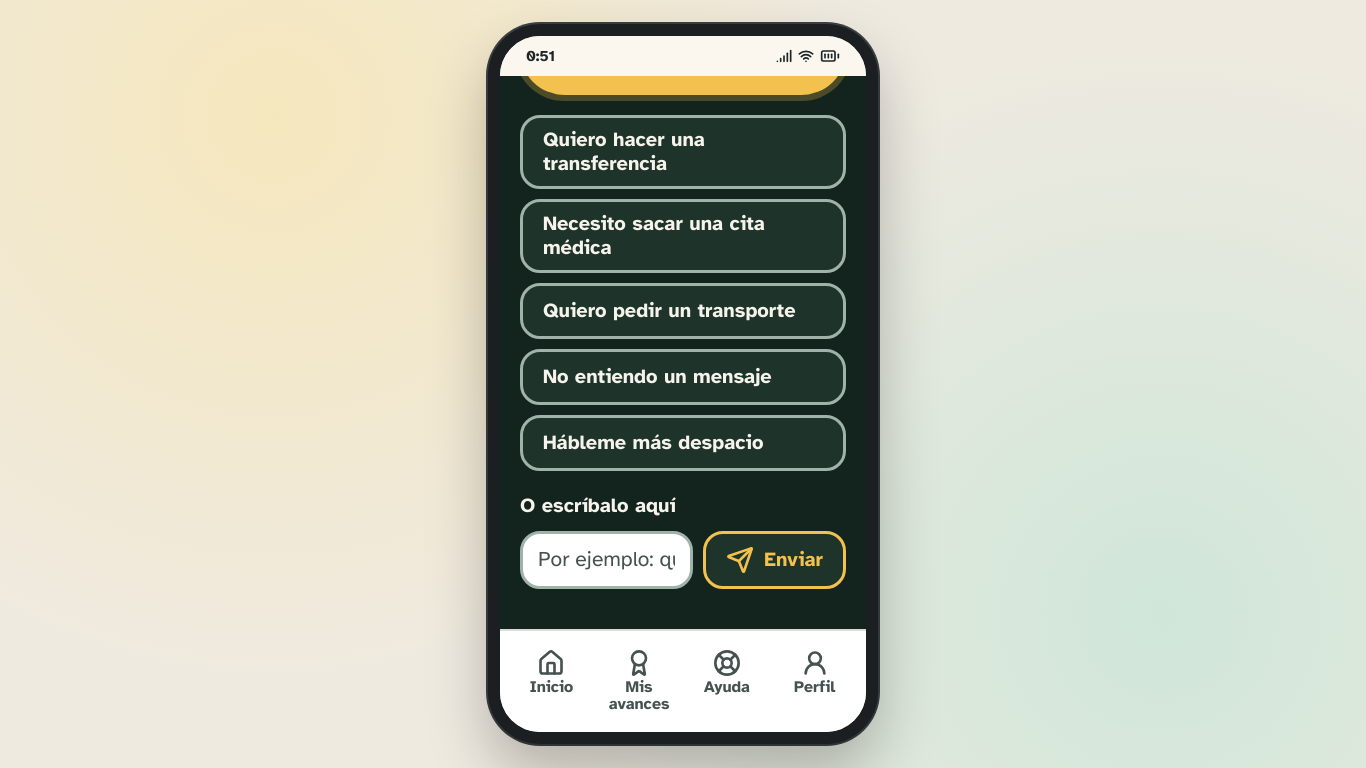
it: pantalla 5: copiloto sin micrófono › "Háblame más despacio" deja la voz lenta
This screenshot has width=1366, height=768.
(page scrolled)
Click the button "Hábleme más despacio".
click(683, 443)  # box left=520, top=415, right=846, bottom=471
(page scrolled)
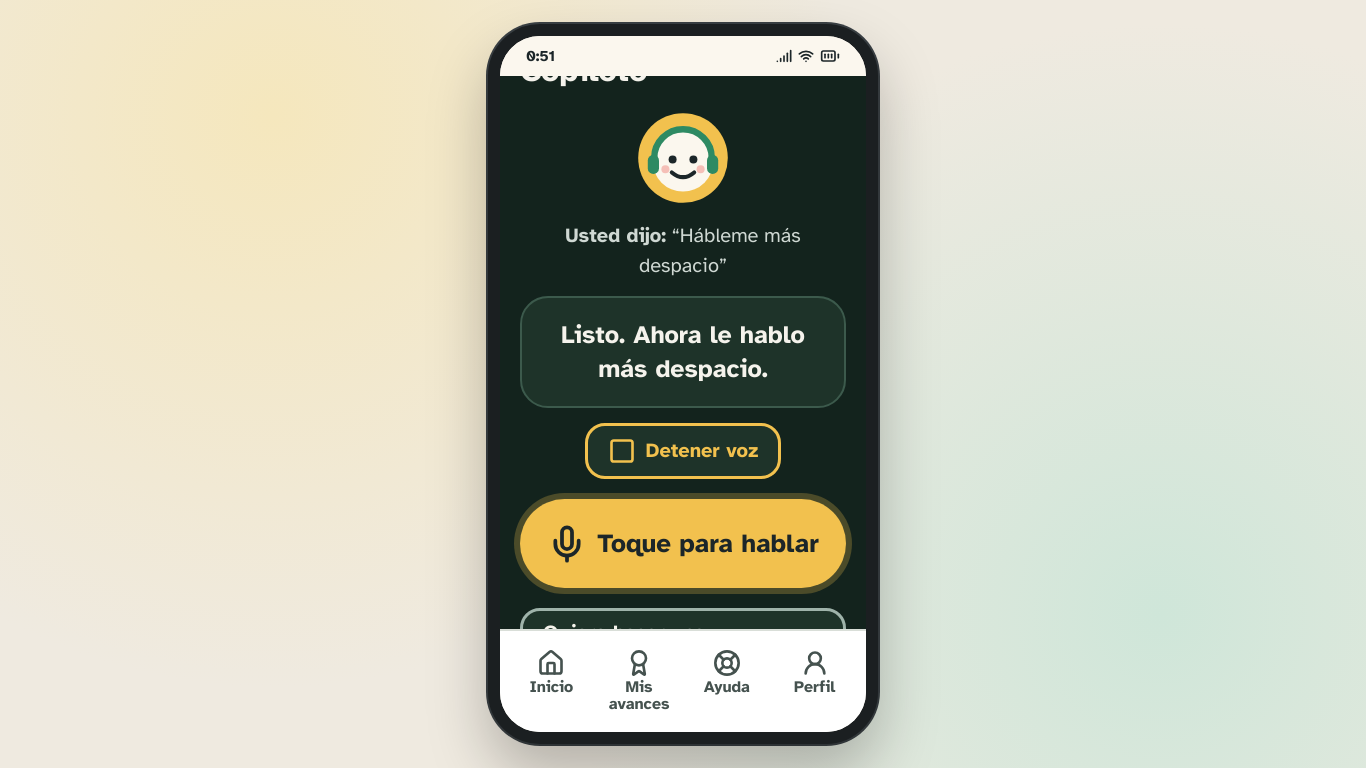
Check: the text "Listo. Ahora le hablo más despacio." is shown, box left=520, top=296, right=846, bottom=408
